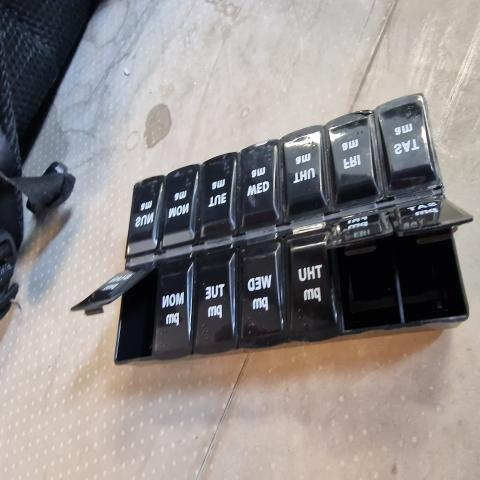Open: (328, 237, 405, 336), (399, 221, 472, 323), (113, 266, 155, 361)
